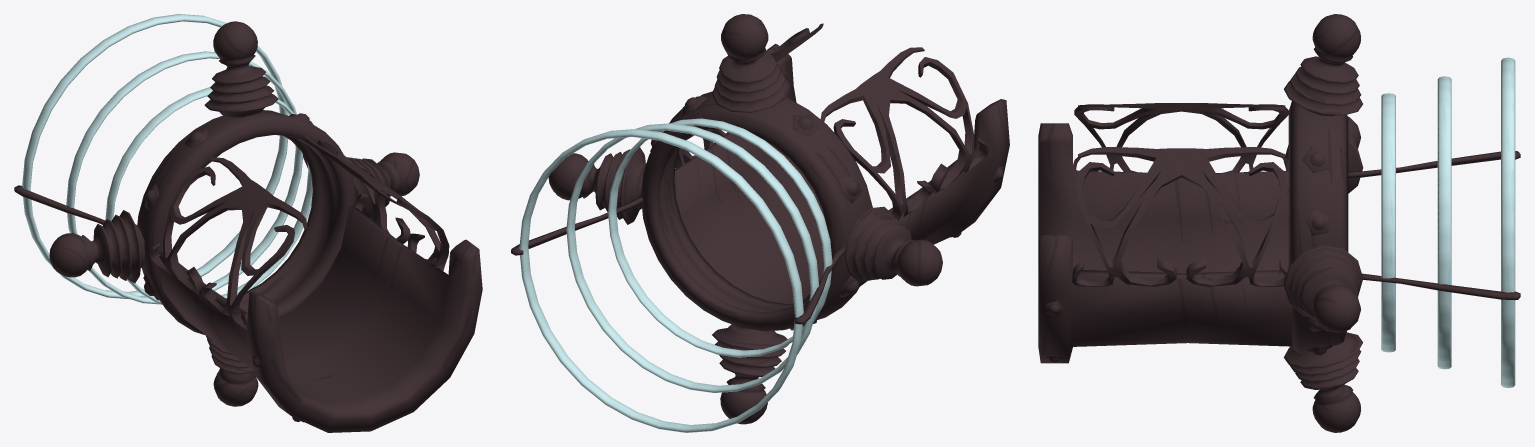
File: Grapple_Launcher.fbx
The picture shows the model from 3 angles, left to right: view 1: azimuth 30°, elevation 25°; view 2: azimuth 150°, elevation 25°; view 3: azimuth 270°, elevation 25°; orthographic projection. The views are drawn at different scales.
Visible parts, largest first — view 1: SnapPointLauncher_LOD0; view 2: SnapPointLauncher_LOD0; view 3: SnapPointLauncher_LOD0.
Part boxes in pixels (left/top/right/bottom): SnapPointLauncher_LOD0: left=14, top=14, right=482, bottom=432; SnapPointLauncher_LOD0: left=511, top=14, right=1009, bottom=432; SnapPointLauncher_LOD0: left=1038, top=14, right=1520, bottom=432.
Bounding box in the file's own units: 4.78 × 4.78 × 5.04.
Materials: 2 (2 with a texture image).
